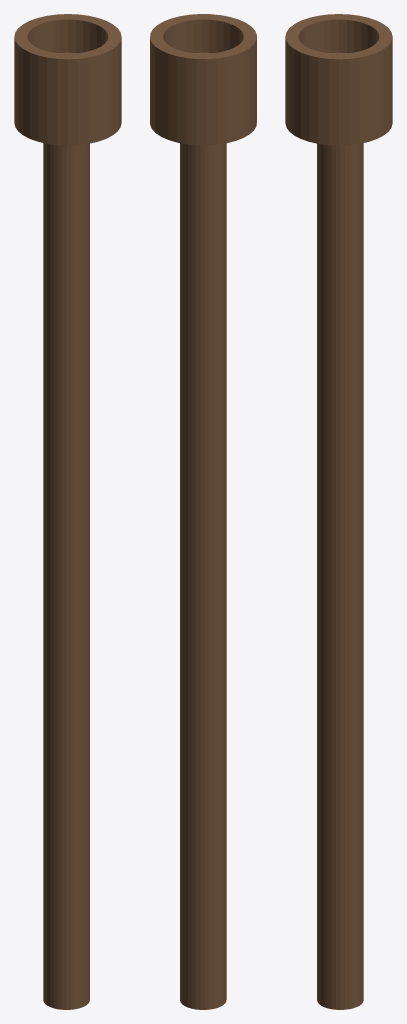
Rendered from torch.dae.
The picture shows the model from 3 angles, left to right: view 1: azimuth 90°, elevation 25°; view 2: azimuth 150°, elevation 25°; view 3: azimuth 270°, elevation 25°; orthographic projection.
Parts seen in each view (by area): view 1: Cylinder, Cylinder_001; view 2: Cylinder, Cylinder_001; view 3: Cylinder, Cylinder_001.
Boxes of the visible parts, x1,y1,x2,y2 form: Cylinder: [43, 143, 89, 1009]; Cylinder_001: [14, 14, 121, 145]; Cylinder: [180, 143, 226, 1009]; Cylinder_001: [150, 14, 256, 145]; Cylinder: [317, 143, 363, 1009]; Cylinder_001: [285, 14, 392, 145].
Bounding box in the file's own units: 0.7029 × 0.7029 × 6.97.
